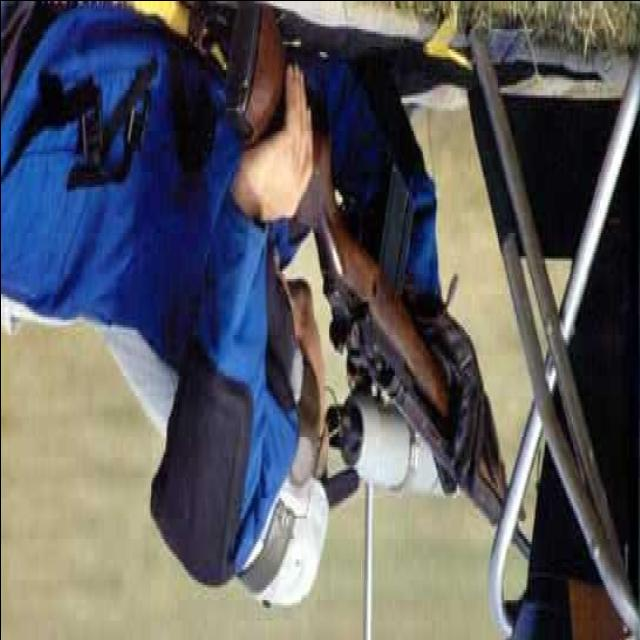heavyweapon: (215, 1, 553, 611)
